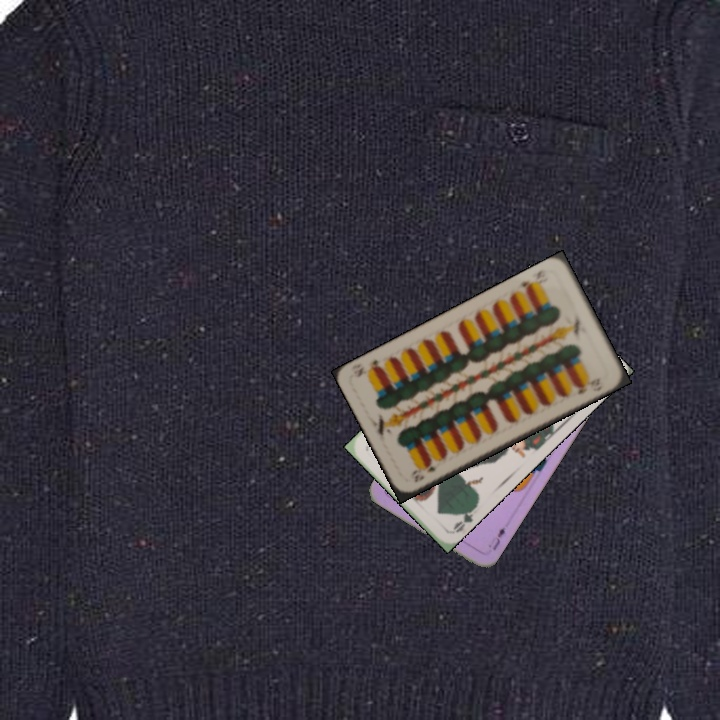E10: (516, 265, 550, 296), (407, 459, 443, 485)
EU: (488, 523, 508, 553)
GO: (449, 502, 479, 535)
